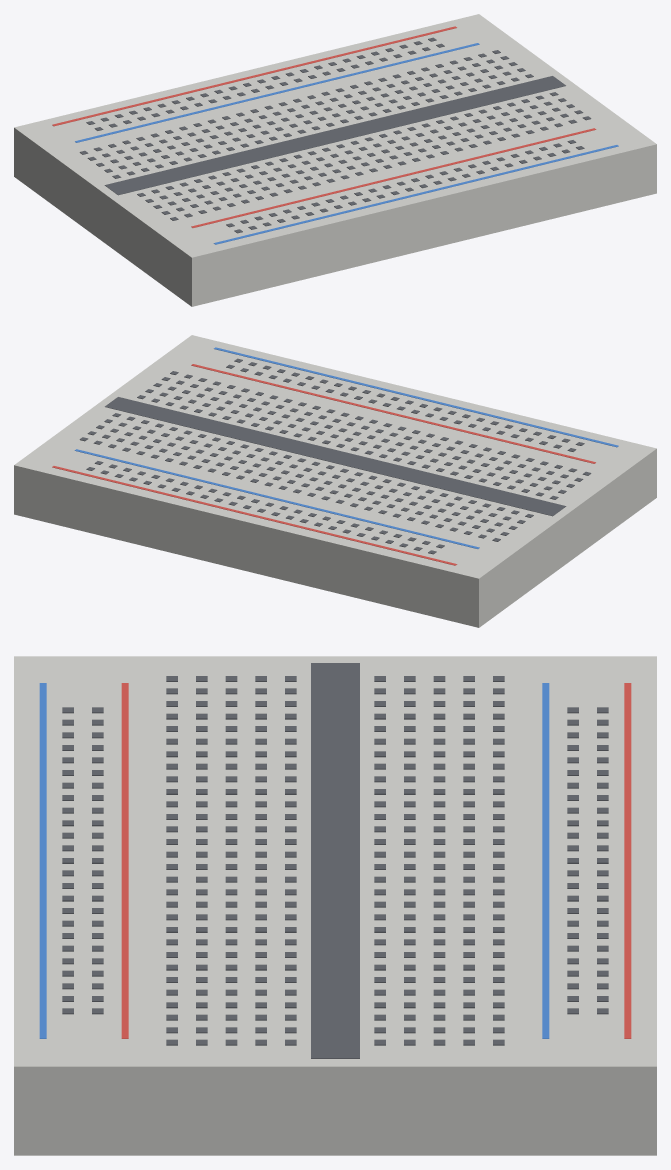
Rendered from breadboard.glb.
3 views of the same model, one above another, from view 1: azimuth 30°, elevation 25°; view 2: azimuth 150°, elevation 25°; view 3: azimuth 270°, elevation 25° (orthographic). The views are drawn at different scales.
Visible parts, largest first — view 1: body, holes, rails; view 2: body, holes, rails; view 3: body, holes, rails.
Boxes of the visible parts, x1,y1,x2,y2 form: body: (14,14,656,306); holes: (79,37,591,233); rails: (52,26,618,244); body: (14,335,656,627); holes: (79,358,591,554); rails: (52,347,618,565); body: (14,656,656,1155); holes: (62,676,608,1045); rails: (39,683,631,1038).
Size of the model in its own units: 0.083 by 0.00851 by 0.055.
